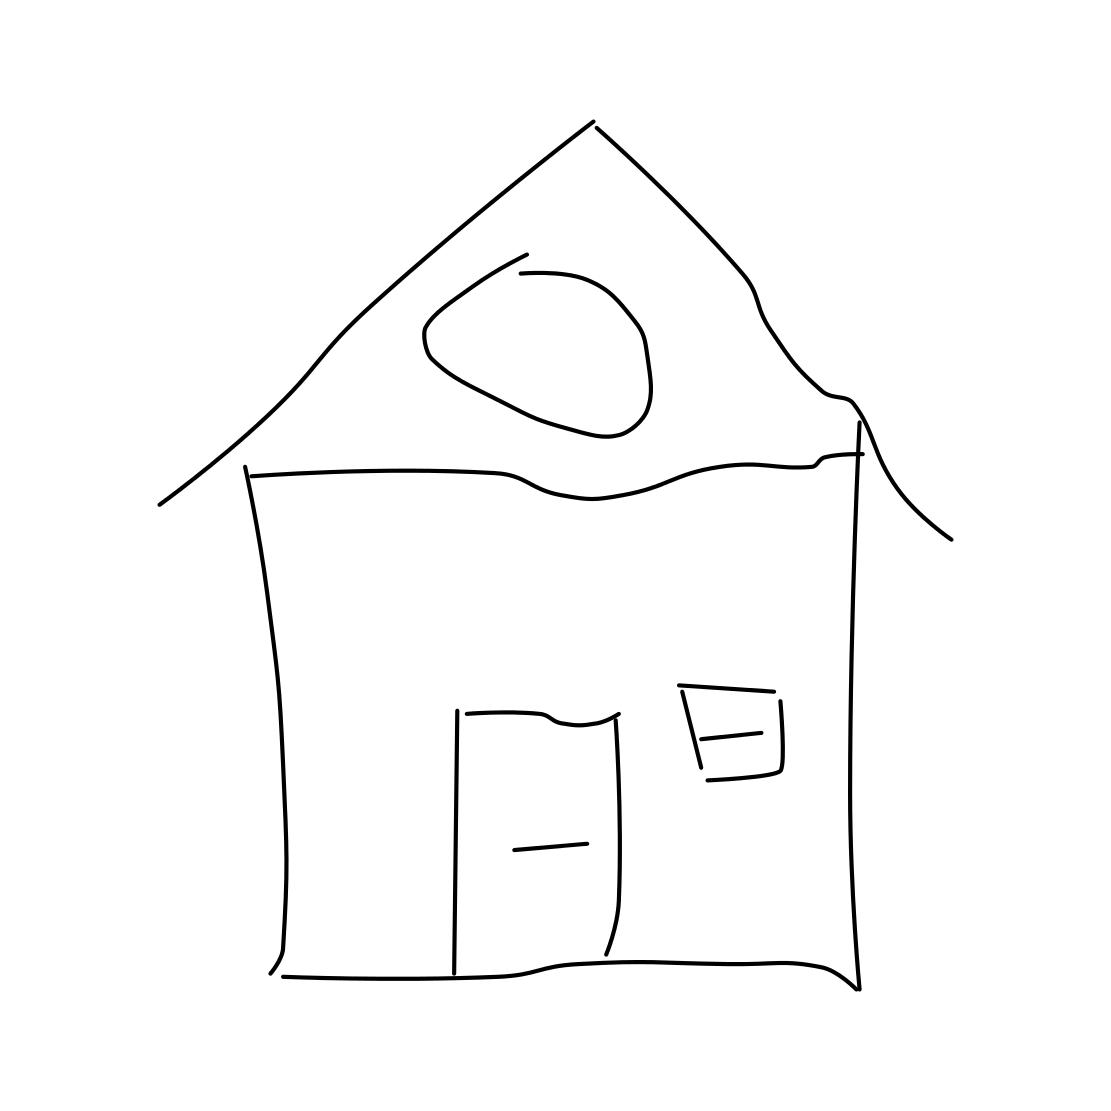House: (136, 102, 1001, 1005)
